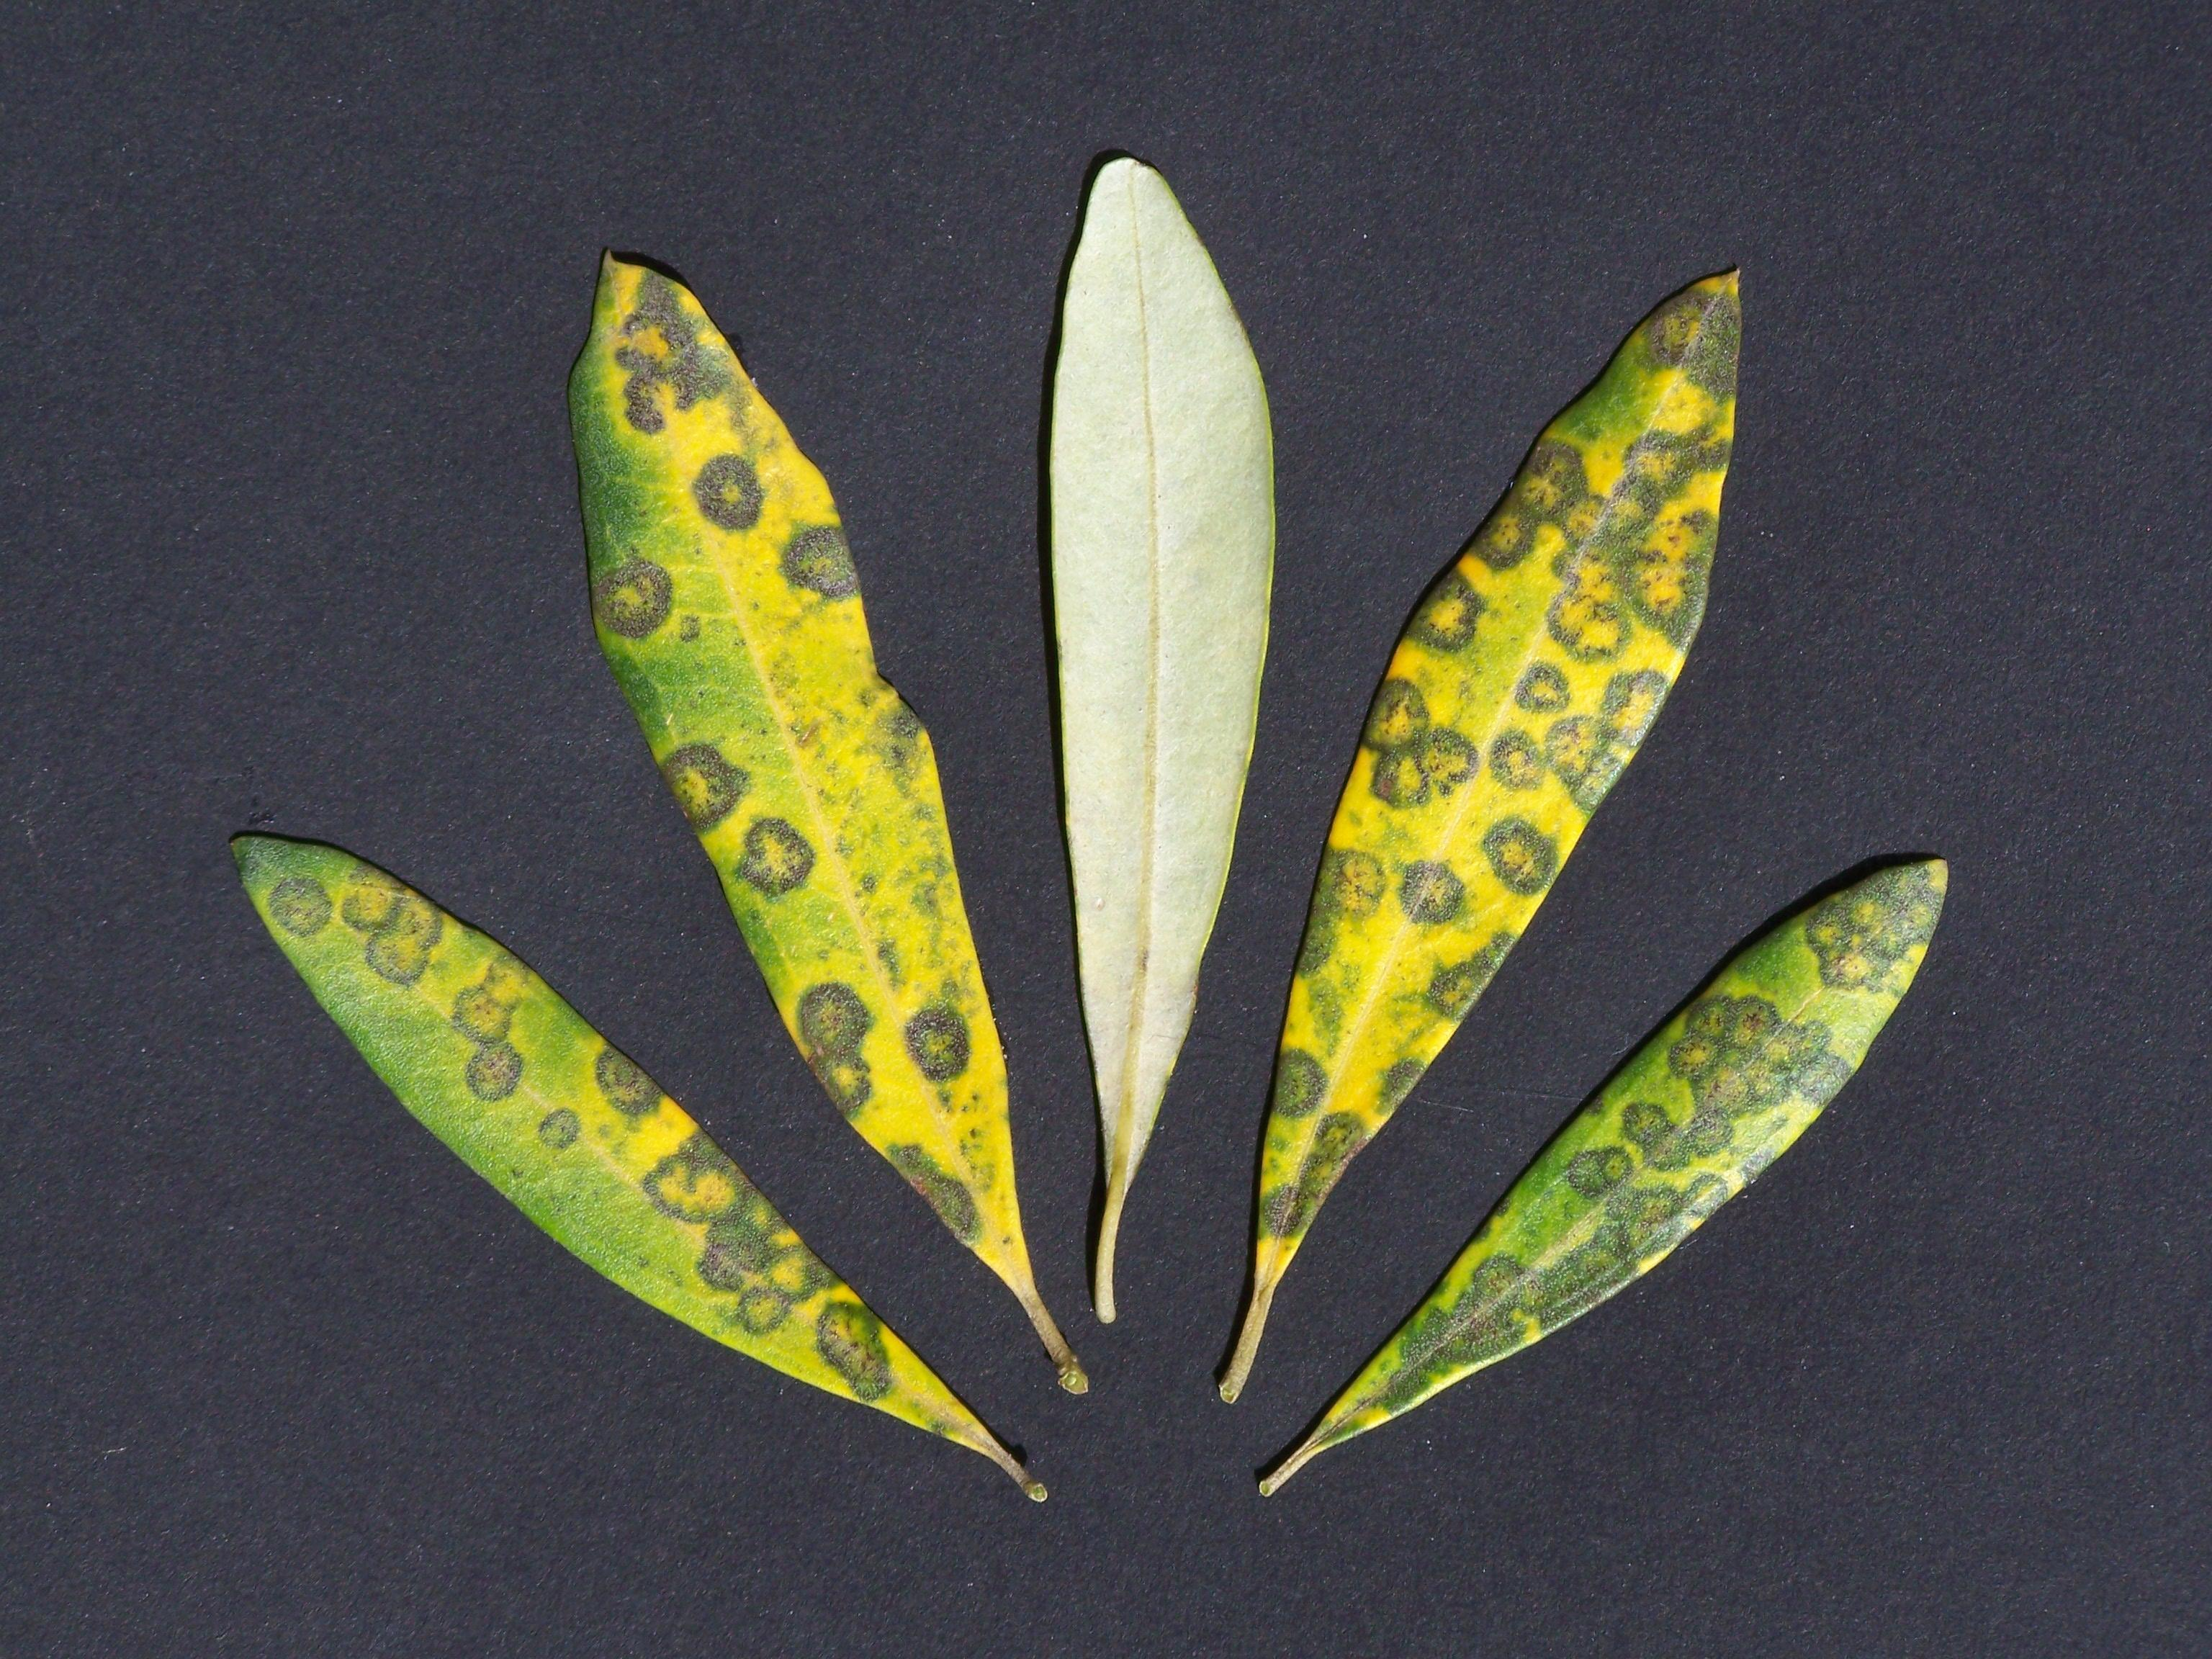OlivePeacockSpot: (1211, 253, 1764, 1427), (221, 828, 1045, 1516), (582, 260, 1076, 1387), (1251, 847, 1959, 1511)
